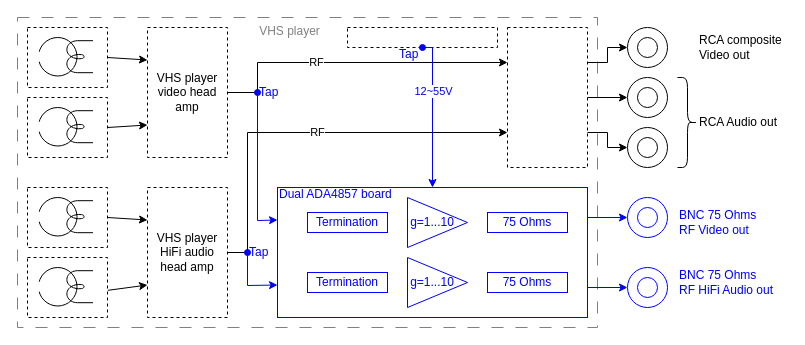
The diagram is 805 pixels wide and 345 high, and some of its shapes have lost their labels. Here are the shapes that lost their labels. From the top down, the centre of each, then its label:
[422,37]: VHS player power supply
[547,97]: VHS player demodulation and decoding system
